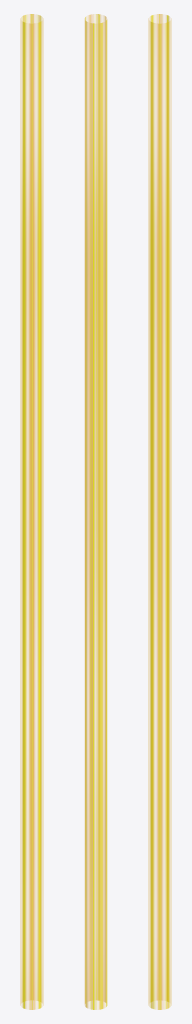
File: PillarLight.glb
The picture shows the model from 3 angles, left to right: view 1: azimuth 90°, elevation 25°; view 2: azimuth 210°, elevation 25°; view 3: azimuth 270°, elevation 25°; orthographic projection.
Parts seen in each view (by area): view 1: PillarLight; view 2: PillarLight; view 3: PillarLight.
Part boxes in pixels (x1=…): PillarLight: x1=20, y1=14, x2=43, y2=1009; PillarLight: x1=84, y1=14, x2=107, y2=1009; PillarLight: x1=148, y1=14, x2=171, y2=1009.
Size of the model in its own units: 8.35 by 401 by 8.35.
Materials: 1 (1 with a texture image).
